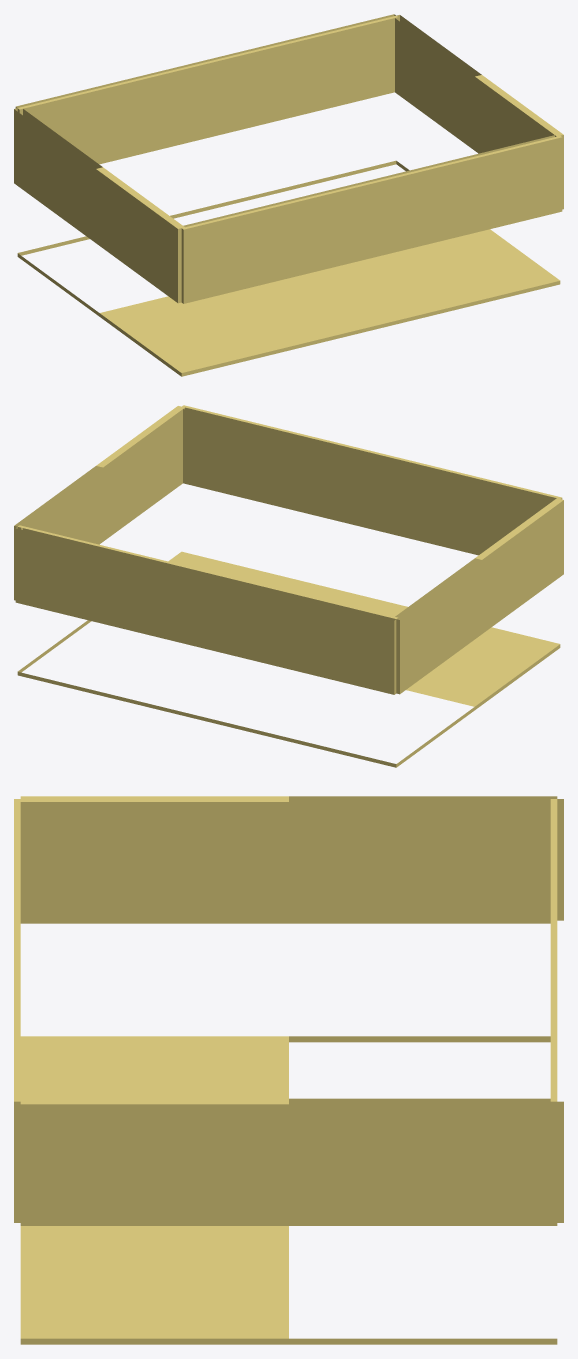
Rendered from roomA.gltf.
3 views of the same model, one above another, from view 1: azimuth 30°, elevation 25°; view 2: azimuth 150°, elevation 25°; view 3: azimuth 270°, elevation 25° (orthographic). The views are drawn at different scales.
Parts seen in each view (by area): view 1: RoomA; view 2: RoomA; view 3: RoomA.
Part boxes in pixels (x1,y1,x2,y2): RoomA: [14, 14, 563, 376]; RoomA: [14, 405, 563, 767]; RoomA: [14, 796, 563, 1344].
Bounding box in the file's own units: 8.15 × 3 × 6.15.
